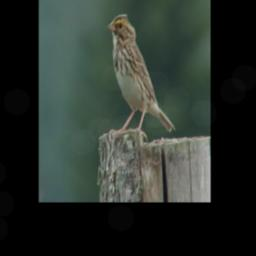Sparrow: (105, 12, 175, 144)
